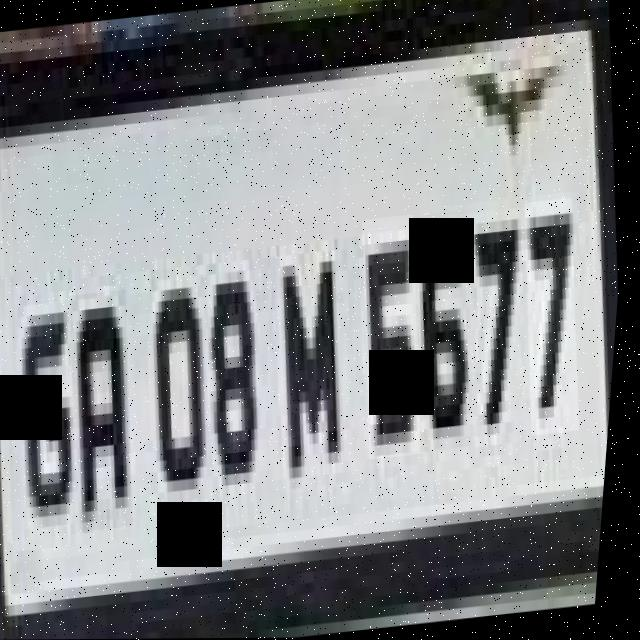0: (141, 278, 229, 495)
5: (351, 215, 441, 461)
6: (407, 211, 496, 453)
7: (460, 203, 547, 446), (514, 198, 599, 436)
8: (198, 267, 283, 486)
A: (60, 288, 155, 532)
G: (10, 297, 97, 526)
M: (264, 234, 367, 494)
